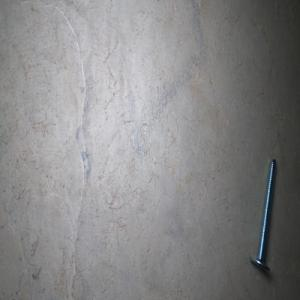Bolt: (248, 158, 276, 271)
